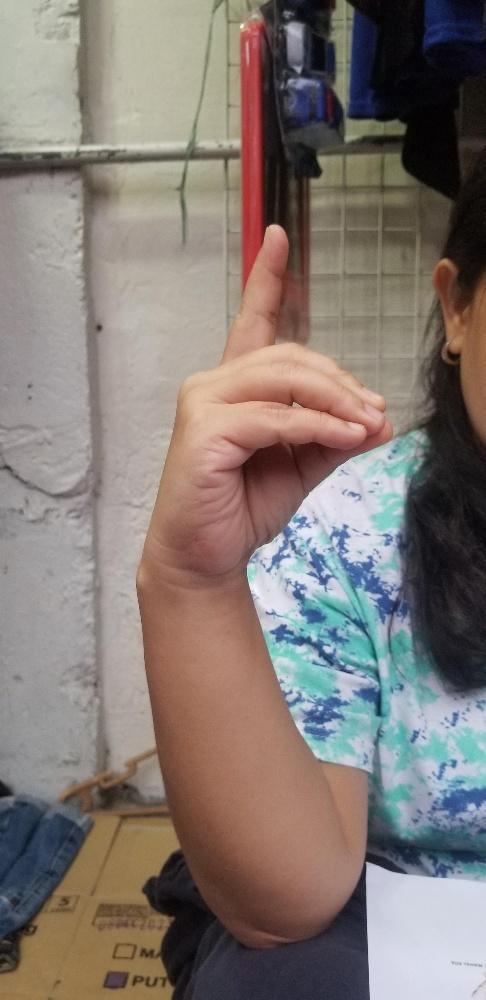d: (147, 224, 394, 568)
